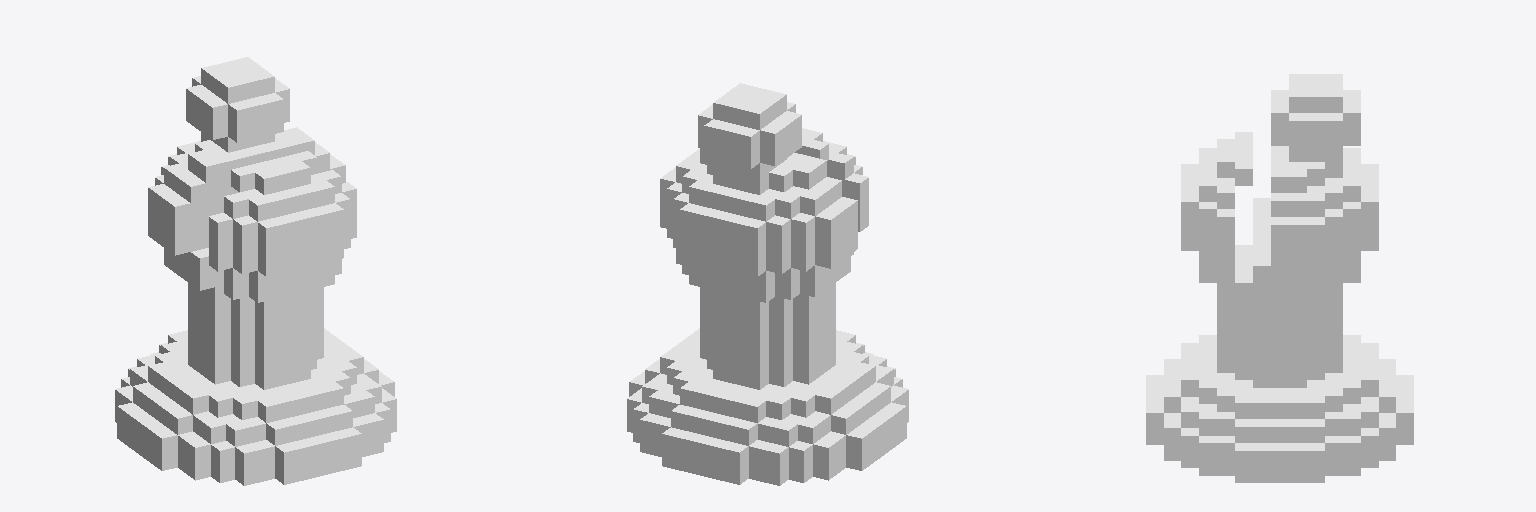
File: BishopW.obj
3 views of the same model, side by side, from view 1: azimuth 30°, elevation 25°; view 2: azimuth 150°, elevation 25°; view 3: azimuth 270°, elevation 25° (orthographic).
Visible parts, largest first — view 1: object 1; view 2: object 1; view 3: object 1.
Part boxes in pixels (x1,y1,x2,y2): object 1: (115,57,396,485); object 1: (627,83,908,485); object 1: (1146,74,1413,482).
Bounding box in the file's own units: 1.5 × 2.1 × 1.5.